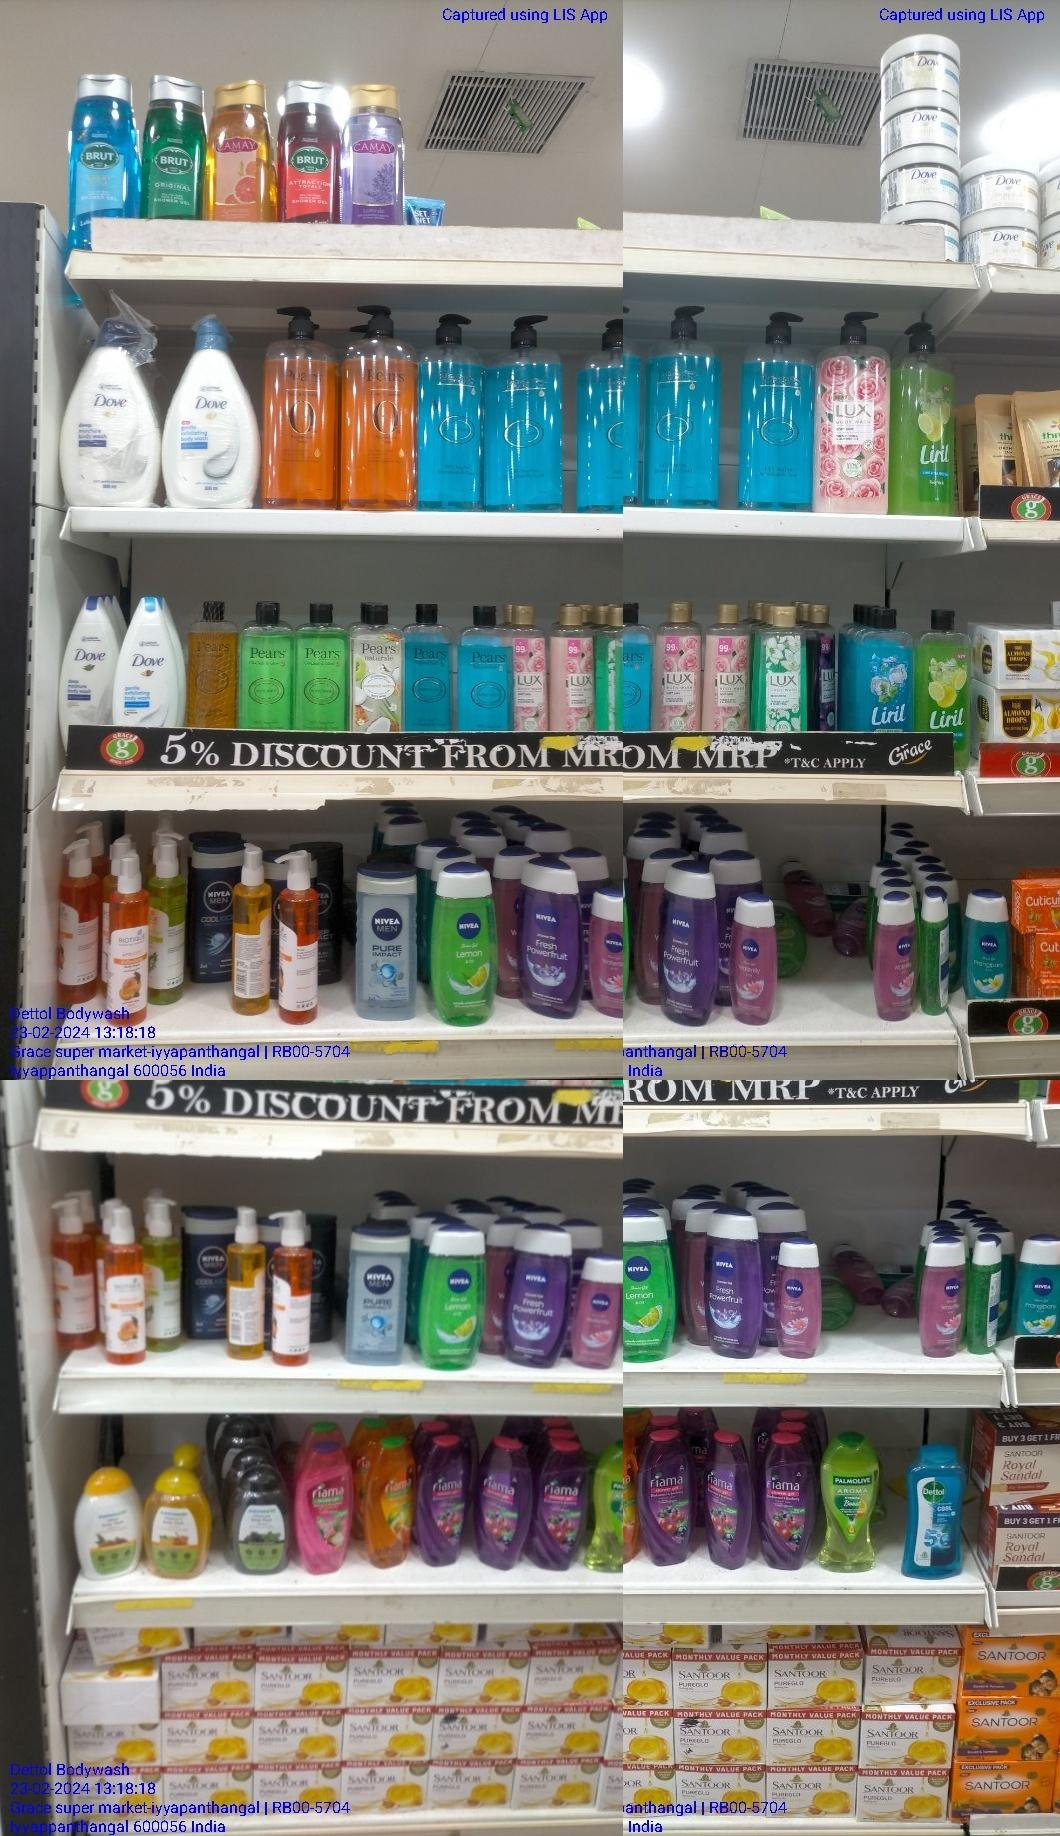Dettol_Bodywash_Cool: (905, 1449, 965, 1582)
Fiama_Shower_Gel_Patchouli_and_Macadamia_250ML: (297, 1441, 348, 1574)
Fiama_Shower_Gel_Peach_and_Avocado_250ML: (367, 1433, 413, 1571)
Liril_Cooling_Mint_Body_Wash_250ML: (854, 607, 915, 733)
Liril_Lime_and_Tea_Tree_Oil_Body_Wash_250ML: (919, 609, 974, 733)
Lux_Body_Wash_Skin_Detox_Freesia_Scent_and_Alove_Vera_245ML: (756, 603, 808, 733)
Nivea_Shower_Gel_Fresh_Powerfruit_250ML: (520, 859, 580, 1021), (656, 863, 714, 1026), (505, 1229, 565, 1370), (705, 1210, 761, 1356)
Nivea_Shower_Gel_Lemon_and_Oil_250ML: (434, 867, 497, 1031), (423, 1224, 490, 1369), (621, 1208, 671, 1365)
Palmolive_Aroma_Morning_Tonic_Shower_Gel_250ML: (816, 1442, 880, 1575)
Pears_Pure_Glycerin_and_Lemon_Flower_Extracts_Body_Wash_250ML: (293, 598, 348, 731), (238, 599, 293, 731)
Pears_Pure_Glycerin_and_Mint_Extracts_Body_Wash_250ML: (454, 603, 516, 732), (406, 602, 454, 732)
